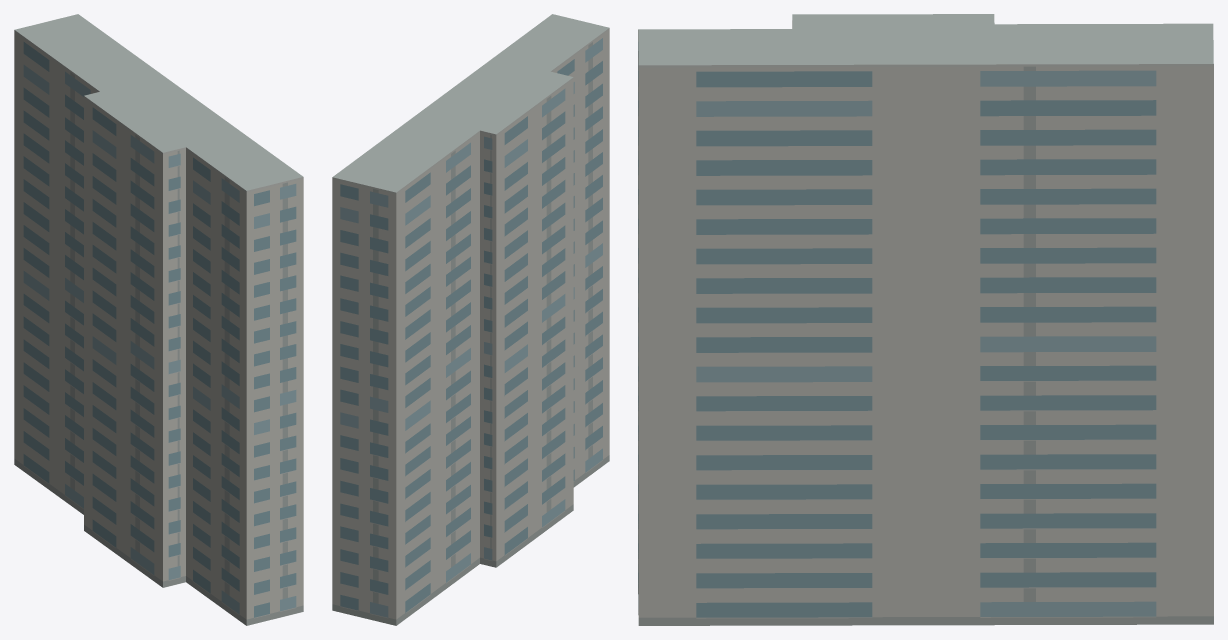
The model's file is residential-a77ec33a-052e-4592-9542-4af6199ed8a9.glb.
The picture shows the model from 3 angles, left to right: view 1: azimuth 30°, elevation 25°; view 2: azimuth 150°, elevation 25°; view 3: azimuth 270°, elevation 25°; orthographic projection. The views are drawn at different scales.
Visible parts, largest first — view 1: residential-a77ec33a-052e-4592-9542-4af6199ed8a9.tmp; view 2: residential-a77ec33a-052e-4592-9542-4af6199ed8a9.tmp; view 3: residential-a77ec33a-052e-4592-9542-4af6199ed8a9.tmp.
Part boxes in pixels (x1,y1,x2,y2): residential-a77ec33a-052e-4592-9542-4af6199ed8a9.tmp: (14, 14, 303, 625); residential-a77ec33a-052e-4592-9542-4af6199ed8a9.tmp: (332, 14, 609, 625); residential-a77ec33a-052e-4592-9542-4af6199ed8a9.tmp: (638, 14, 1213, 625).
Size of the model in its own units: 11.79 by 60 by 55.85.
